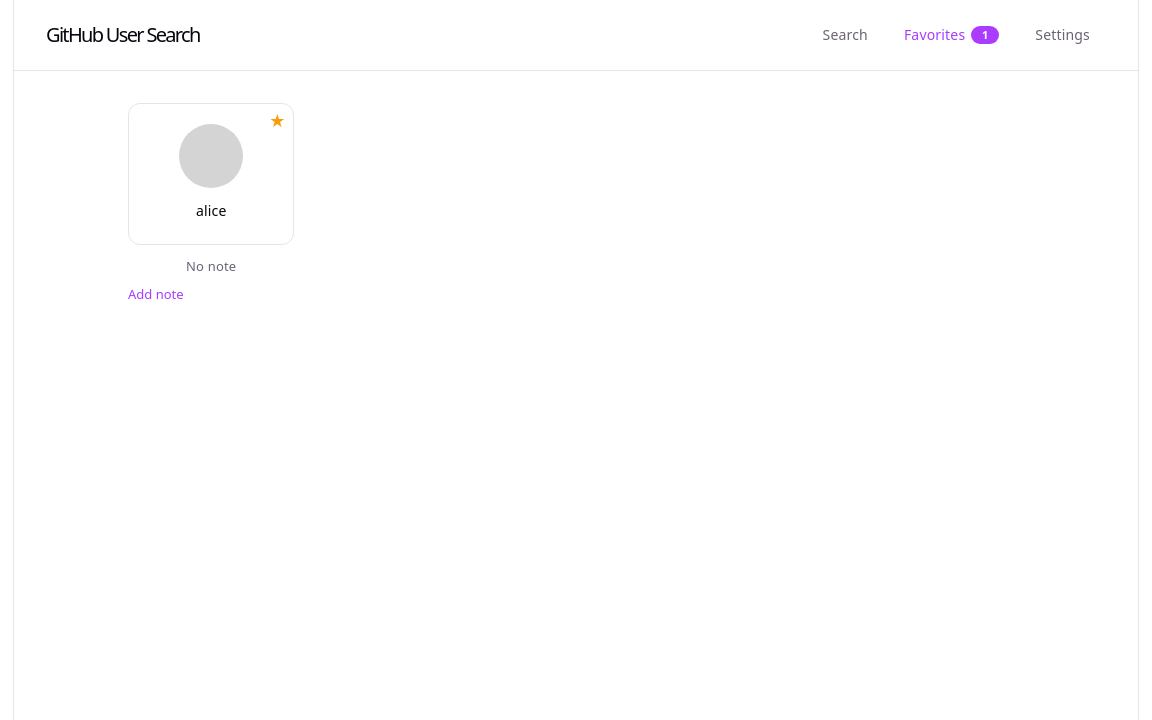
Test: favorites page notes › opens the note editor only after add note is clicked
What coordinates should you click on to do the following:
click the button with aria-label "Add note for alice"
I would click on:
 (156, 294)
Its box is 128,281 -> 184,308.
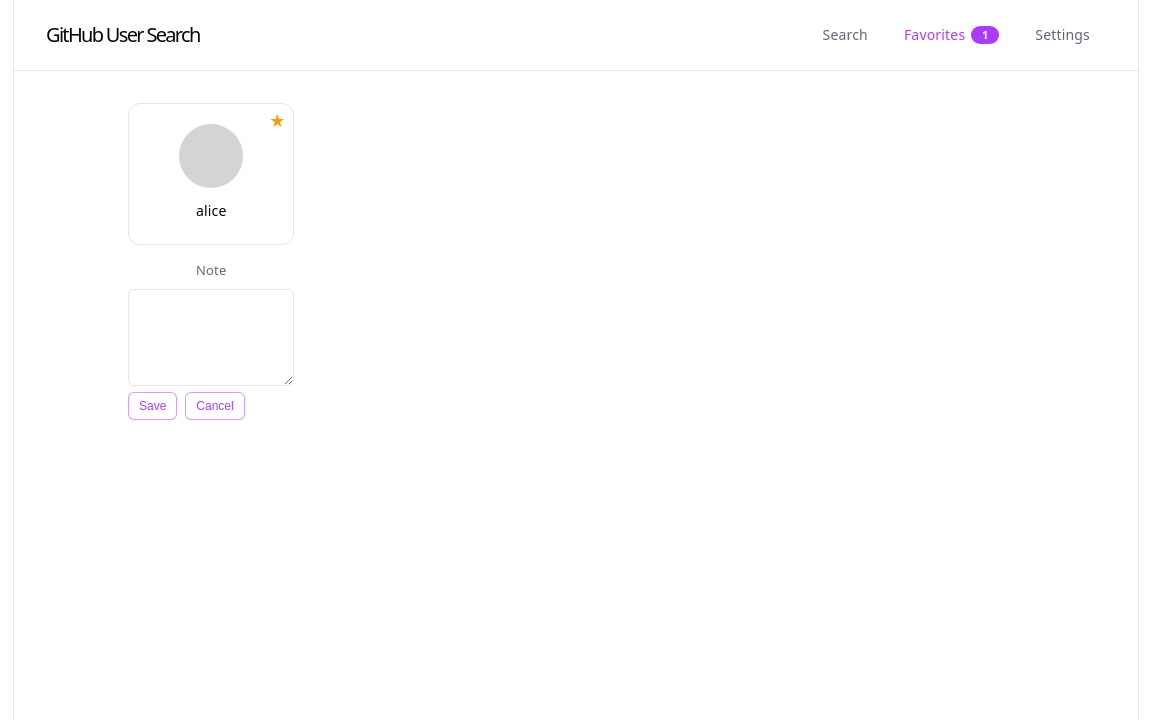
expect the text box named "Note for alice" is shown: met, box 128,289 -> 294,386
